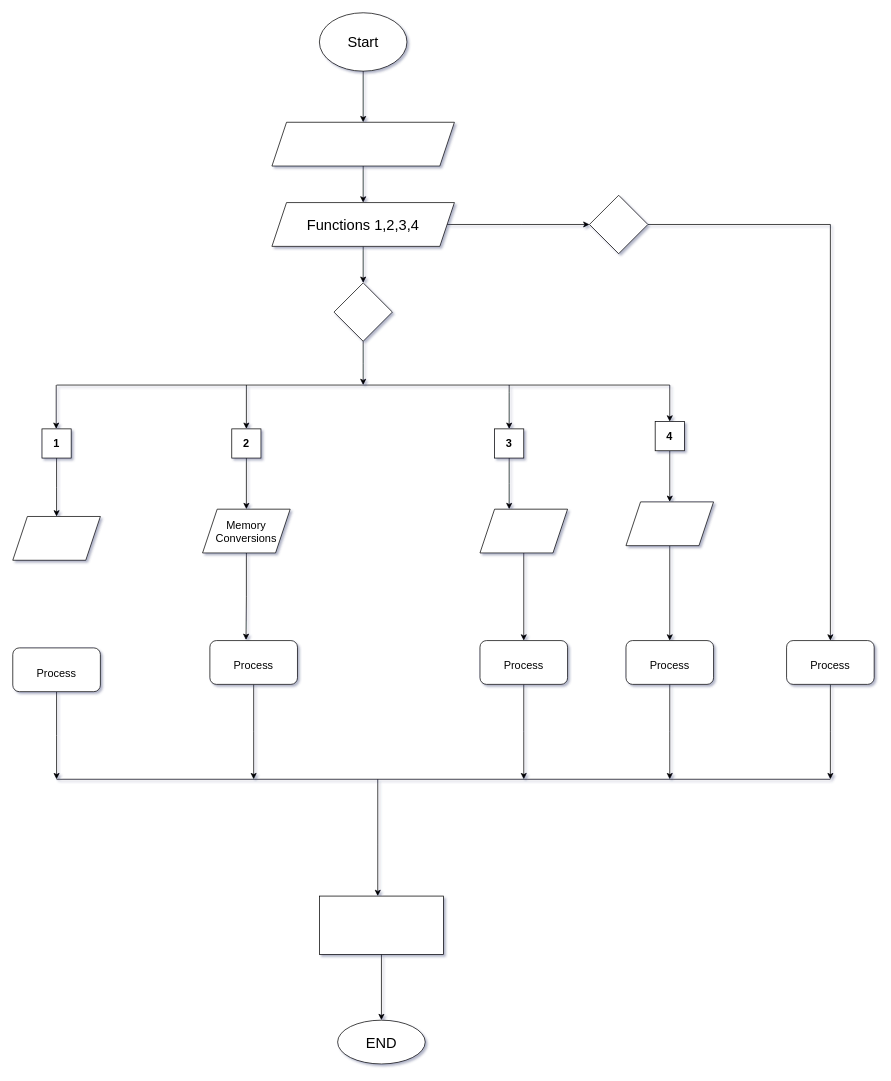
This 891x1081 diagram has some shape labels left out. The shapes that lost their labels are listed below. From the top down, each one's box as (x1, y1, x2, y2) in pixels, then its label:
(271, 122, 454, 166): Functions in Calculator
(589, 195, 648, 254): No
(333, 282, 392, 341): yes
(12, 516, 100, 560): Calculator Functions
(479, 508, 568, 553): Currency Conversion
(625, 501, 714, 546): Unit Conversions
(319, 895, 443, 954): Print Result
